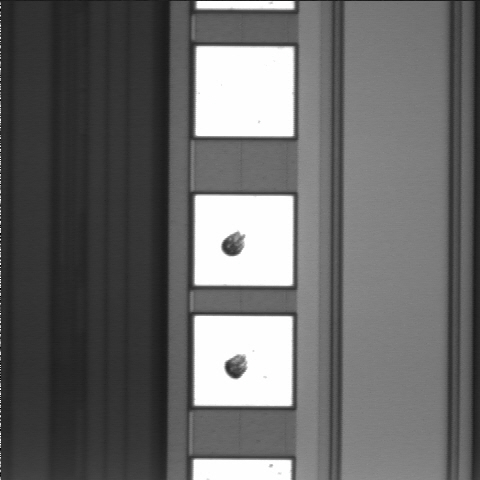pad: (195, 195, 293, 286), (196, 46, 294, 136), (194, 316, 292, 406)
